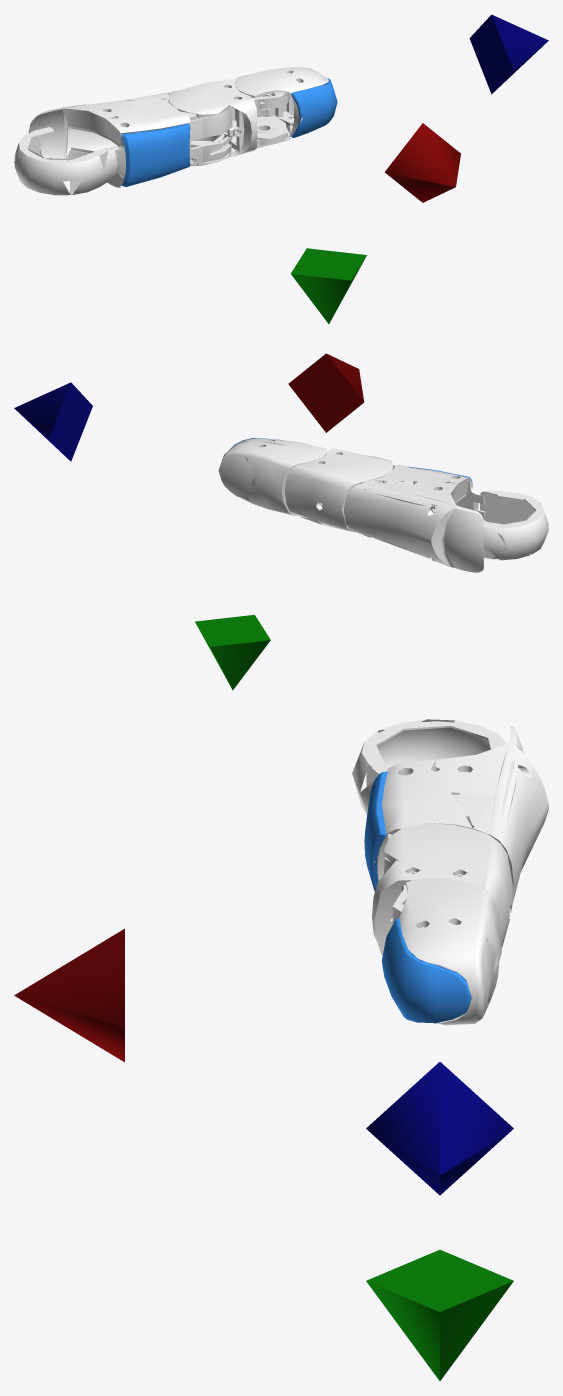
Rendered from hithand-2-finger.dae.
3 views of the same model, one above another, from view 1: azimuth 30°, elevation 25°; view 2: azimuth 150°, elevation 25°; view 3: azimuth 270°, elevation 25° (orthographic). The views are drawn at different scales.
Visible parts, largest first — view 1: IndexedTriangleStripSet_4, Cone, FaceSet, Cone_4, Cone_2, IndexedTriangleStripSet, IndexedTriangleStripSet_24, IndexedTriangleStripSet_2, IndexedTriangleStripSet_20, IndexedTriangleStripSet_8, IndexedTriangleStripSet_6, IndexedTriangleStripSet_22 (+7 smaller); view 2: IndexedTriangleStripSet_4, Cone, IndexedTriangleStripSet_24, FaceSet, IndexedTriangleStripSet_8, IndexedTriangleStripSet, Cone_4, Cone_2, IndexedTriangleStripSet_20, IndexedTriangleStripSet_28, IndexedTriangleStripSet_34, FaceSet_8 (+2 smaller); view 3: Cone_4, Cone_2, IndexedTriangleStripSet_4, Cone, IndexedTriangleStripSet_8, IndexedTriangleStripSet, IndexedTriangleStripSet_24, FaceSet, IndexedTriangleStripSet_28, IndexedTriangleStripSet_6, IndexedTriangleStripSet_20, FaceSet_8 (+5 smaller).
Boxes of the visible parts, left/top/right/bottom form: IndexedTriangleStripSet_4: left=28, top=92, right=232, bottom=187; Cone: left=384, top=123, right=460, bottom=202; FaceSet: left=14, top=127, right=117, bottom=195; Cone_4: left=469, top=14, right=548, bottom=94; Cone_2: left=291, top=248, right=366, bottom=323; IndexedTriangleStripSet: left=169, top=78, right=289, bottom=166; IndexedTriangleStripSet_24: left=30, top=93, right=232, bottom=187; IndexedTriangleStripSet_2: left=121, top=123, right=190, bottom=186; IndexedTriangleStripSet_20: left=169, top=78, right=287, bottom=165; IndexedTriangleStripSet_8: left=236, top=67, right=328, bottom=148; IndexedTriangleStripSet_6: left=291, top=80, right=337, bottom=137; IndexedTriangleStripSet_22: left=121, top=125, right=190, bottom=186; IndexedTriangleStripSet_4: left=344, top=465, right=484, bottom=572; Cone: left=288, top=353, right=364, bottom=432; IndexedTriangleStripSet_24: left=344, top=464, right=484, bottom=571; FaceSet: left=480, top=491, right=548, bottom=560; IndexedTriangleStripSet_8: left=219, top=438, right=326, bottom=515; IndexedTriangleStripSet: left=285, top=444, right=393, bottom=532; Cone_4: left=14, top=382, right=92, bottom=461; Cone_2: left=195, top=614, right=270, bottom=690; IndexedTriangleStripSet_20: left=285, top=444, right=393, bottom=527; IndexedTriangleStripSet_28: left=218, top=438, right=323, bottom=514; IndexedTriangleStripSet_34: left=344, top=470, right=482, bottom=571; FaceSet_8: left=480, top=492, right=548, bottom=558; Cone_4: left=366, top=1062, right=513, bottom=1195; Cone_2: left=366, top=1249, right=513, bottom=1380; IndexedTriangleStripSet_4: left=373, top=726, right=548, bottom=890; Cone: left=14, top=928, right=124, bottom=1062; IndexedTriangleStripSet_8: left=399, top=878, right=501, bottom=1025; IndexedTriangleStripSet: left=372, top=825, right=513, bottom=954; IndexedTriangleStripSet_24: left=377, top=727, right=548, bottom=882; FaceSet: left=352, top=719, right=506, bottom=814; IndexedTriangleStripSet_28: left=402, top=878, right=499, bottom=1022; IndexedTriangleStripSet_6: left=382, top=919, right=470, bottom=1022; IndexedTriangleStripSet_20: left=381, top=823, right=513, bottom=955; FaceSet_8: left=352, top=719, right=498, bottom=792.
Size of the model in its own units: 0.2077 by 0.1013 by 0.1083.
